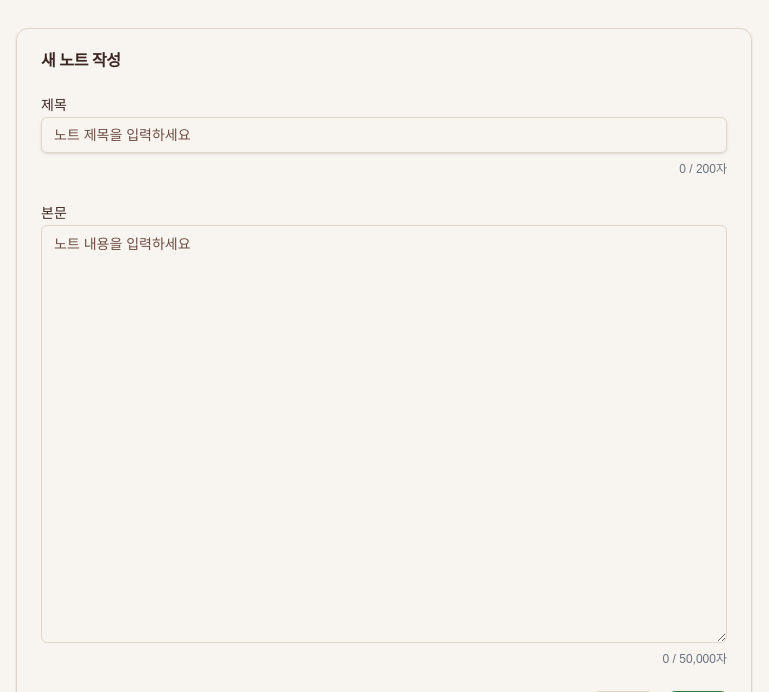
Test case: NewNoteForm › 폼 제출 시 로딩 상태를 표시한다
Type "테스트 제목" into the field labelled "제목". click: (384, 135)
box: x1=41 y1=117 x2=727 y2=153
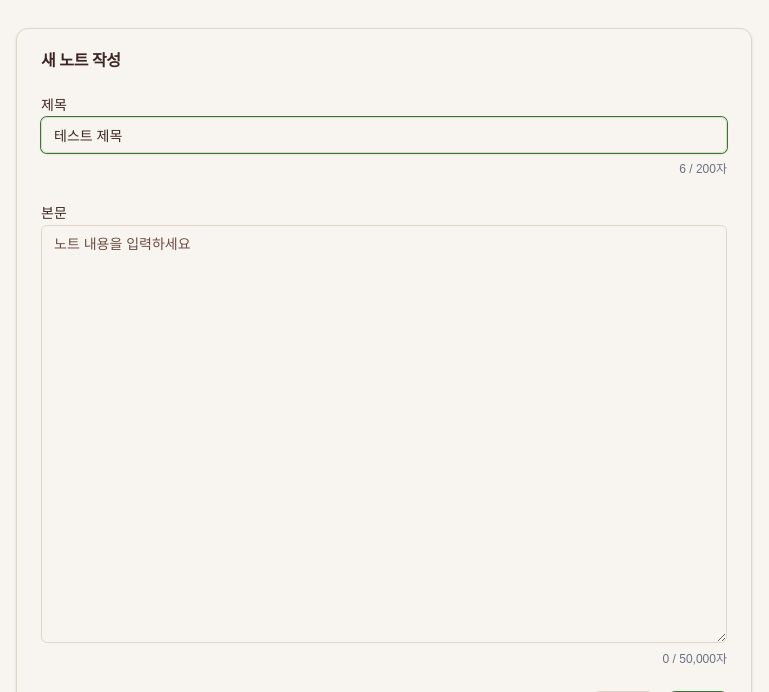
Type "테스트 본문" into the text box labelled "본문". click: (384, 434)
box: x1=41 y1=225 x2=727 y2=643
(page scrolled)
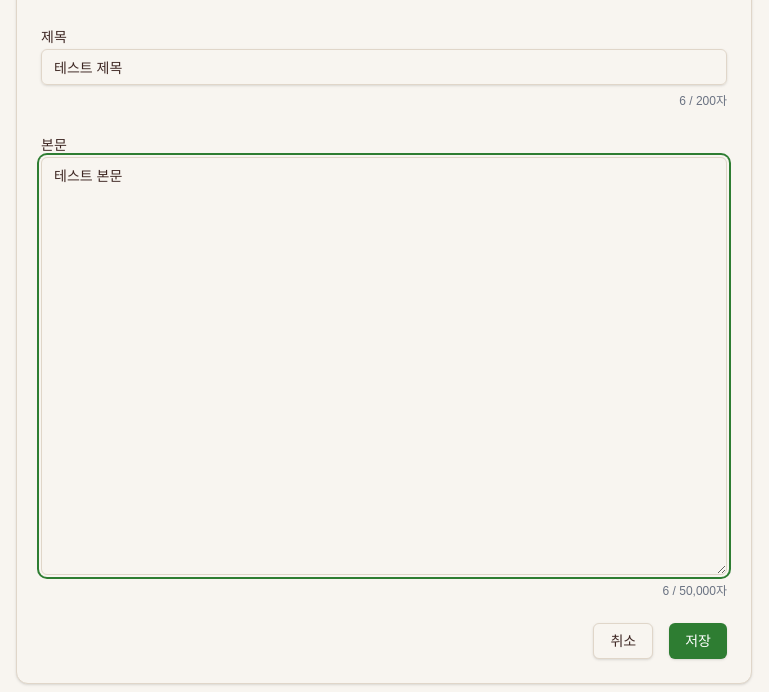
Click the button "저장". click: (698, 641)
box: x1=669 y1=623 x2=727 y2=659
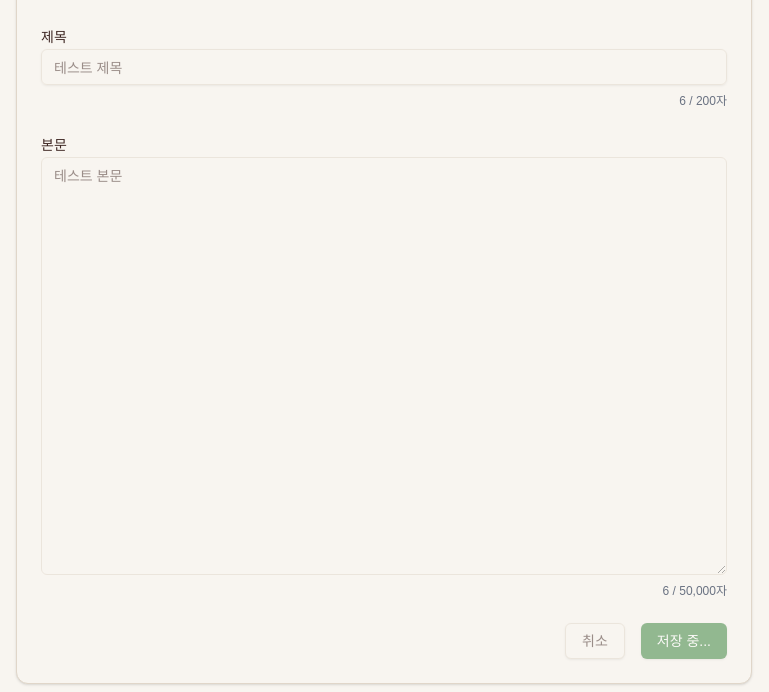
Check: the button "저장 중..." is shown, box x1=641 y1=623 x2=727 y2=659
